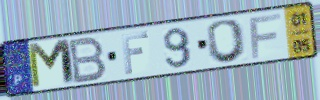9: (161, 25, 194, 70)
B: (68, 35, 109, 86)
F: (247, 12, 283, 61), (119, 30, 151, 76)
M: (25, 37, 79, 92)
O: (205, 17, 250, 65)
